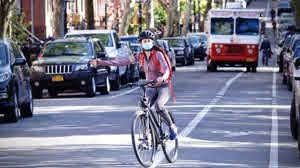bicycle: (122, 81, 183, 166)
car: (30, 36, 115, 97), (203, 7, 268, 67), (69, 29, 134, 82), (3, 34, 38, 122), (184, 32, 213, 61), (161, 35, 192, 61)
person: (133, 32, 186, 142)
